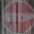Stop: (1, 5, 33, 29)
